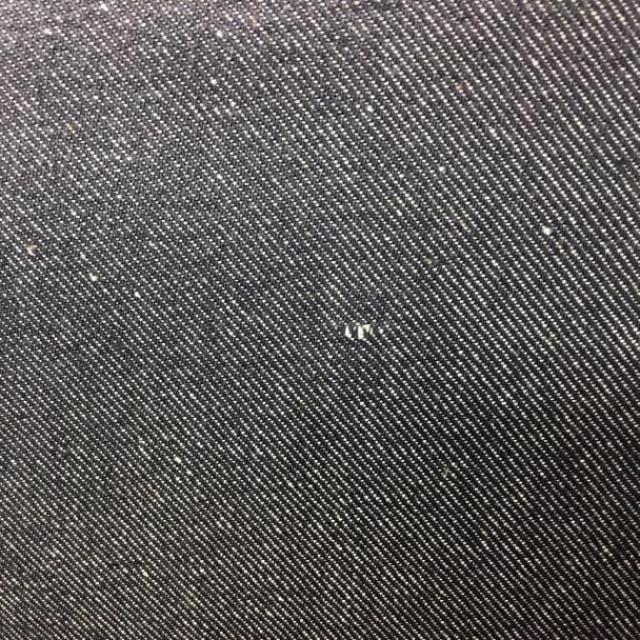Knot: (344, 323, 384, 342)
